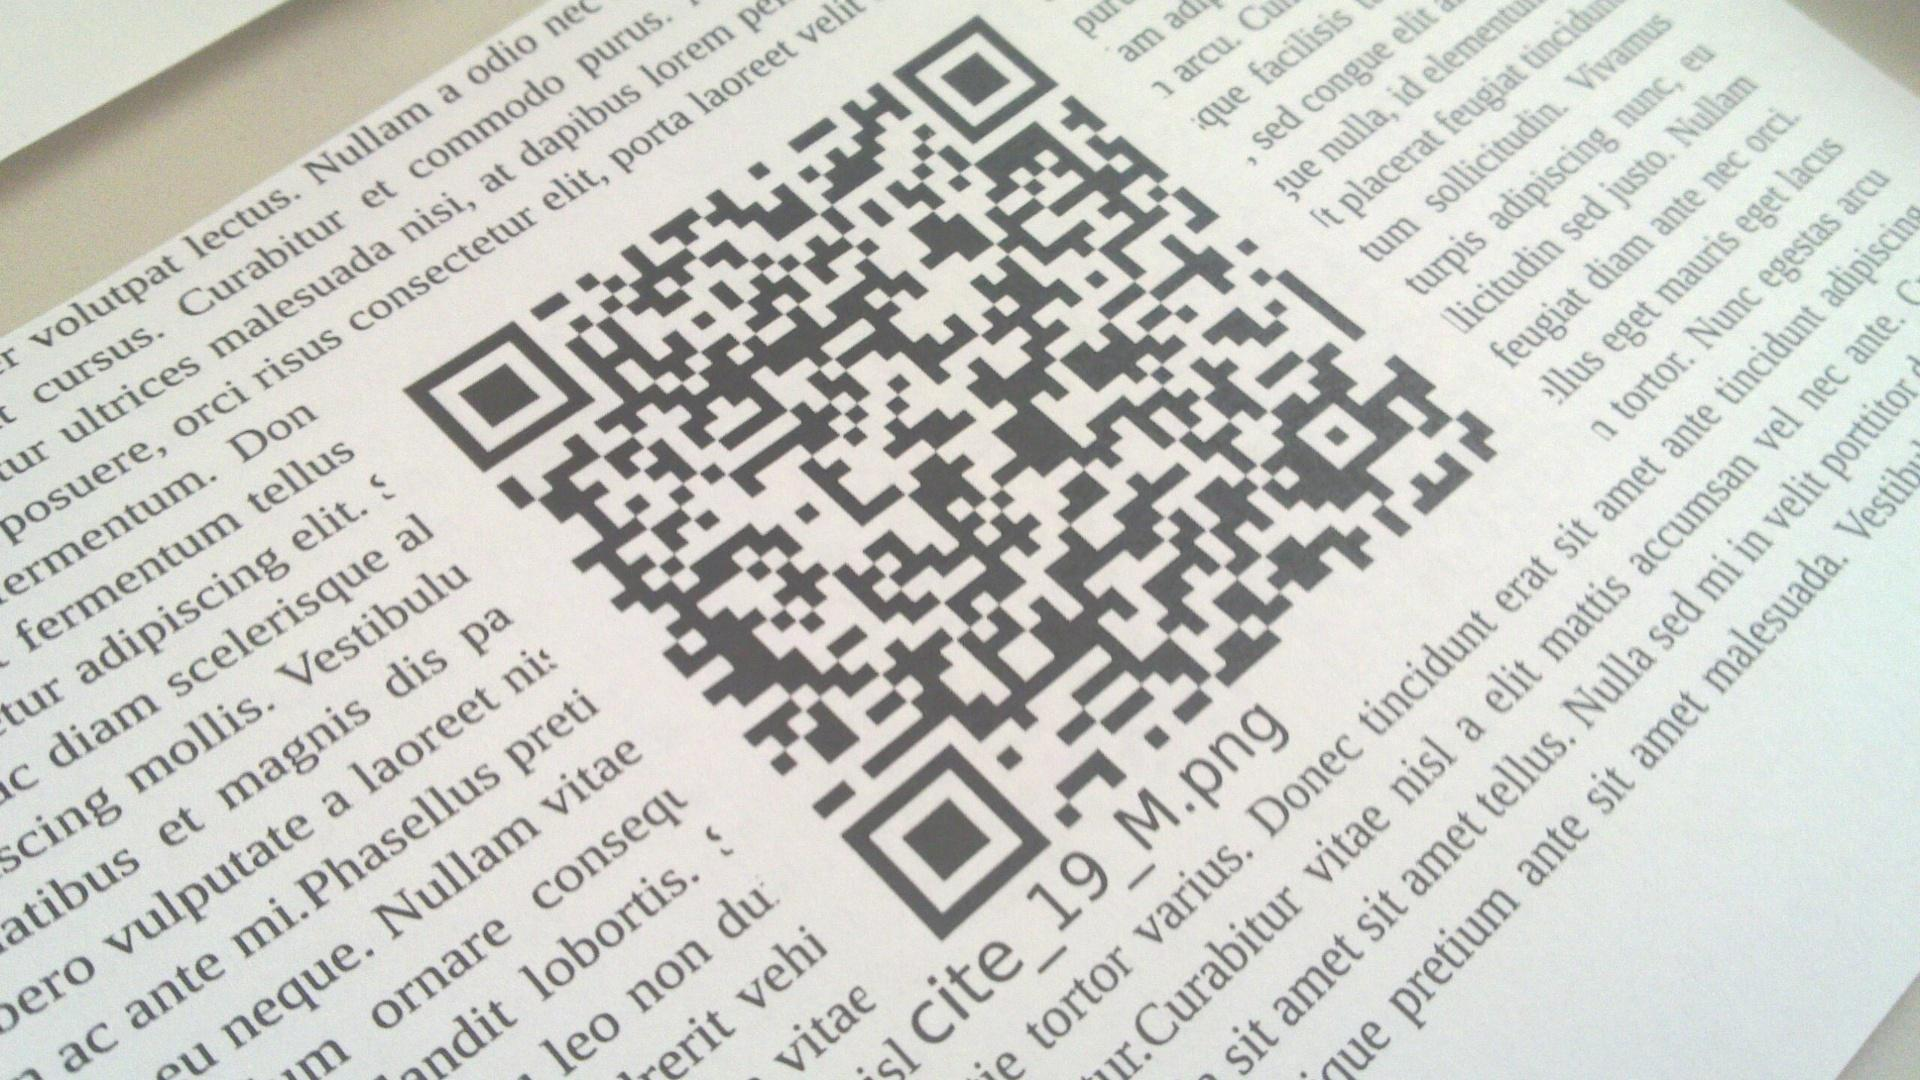qr_code: (401, 16, 1497, 943)
